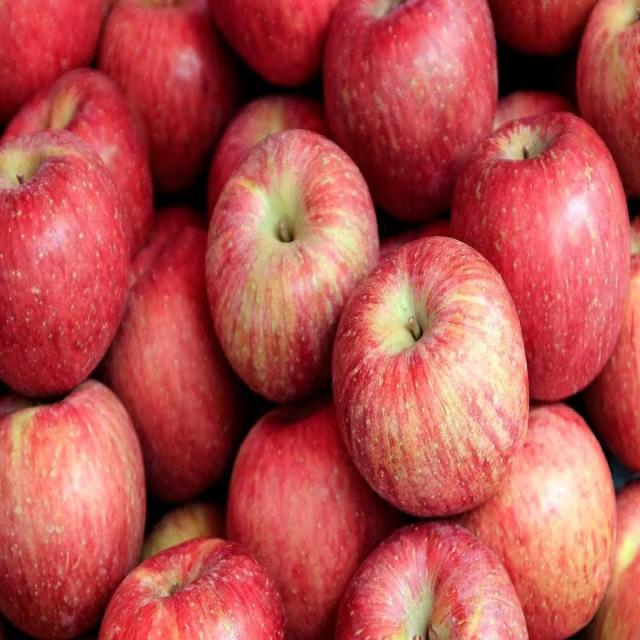manzana: (318, 225, 542, 529)
